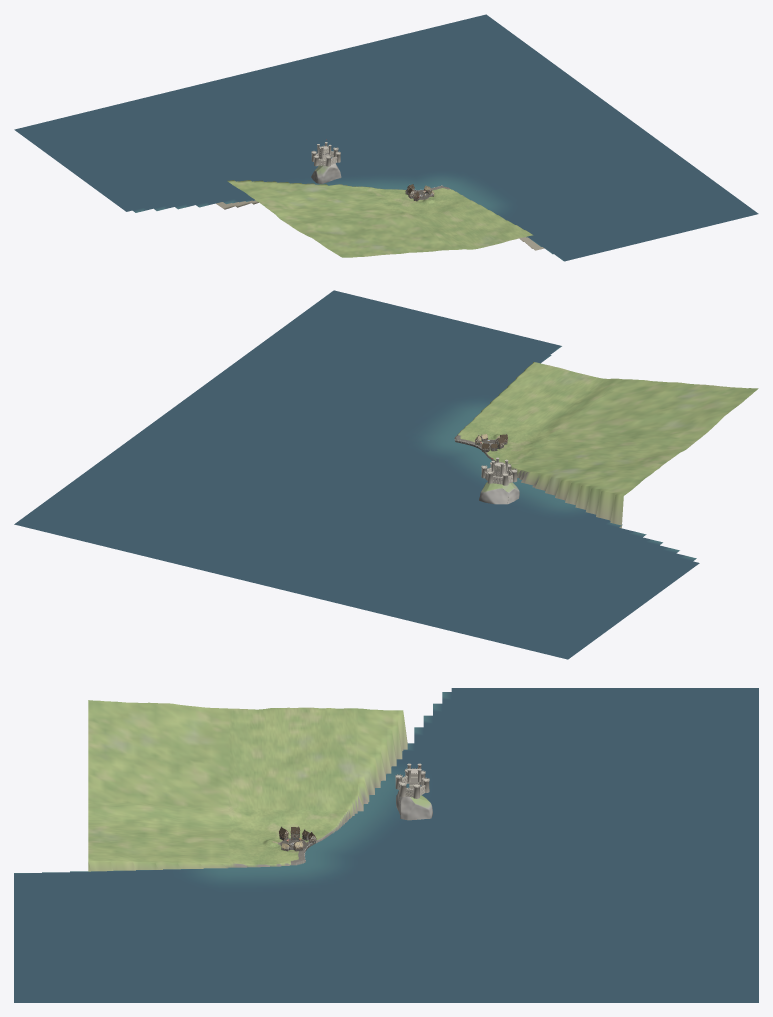
Rendered from village.glb.
The picture shows the model from 3 angles, top to bottom: view 1: azimuth 30°, elevation 25°; view 2: azimuth 150°, elevation 25°; view 3: azimuth 270°, elevation 25°; orthographic projection. The views are drawn at different scales.
Visible parts, largest first — view 1: sea_water, terrain_ground, castle_stone, castle_rock; view 2: sea_water, terrain_ground, castle_rock, castle_stone; view 3: sea_water, terrain_ground, castle_stone, castle_rock.
Part boxes in pixels (bbox=[...]): sea_water: bbox=[14, 14, 758, 261]; terrain_ground: bbox=[216, 180, 544, 257]; castle_stone: bbox=[311, 142, 340, 166]; castle_rock: bbox=[311, 163, 341, 183]; sea_water: bbox=[14, 290, 699, 659]; terrain_ground: bbox=[454, 362, 758, 528]; castle_rock: bbox=[479, 482, 519, 504]; castle_stone: bbox=[481, 457, 517, 485]; sea_water: bbox=[14, 688, 758, 1002]; terrain_ground: bbox=[88, 700, 407, 871]; castle_stone: bbox=[395, 763, 429, 798]; castle_rock: bbox=[396, 790, 432, 820].
Bounding box in the file's own units: 800 × 86.1 × 800.
